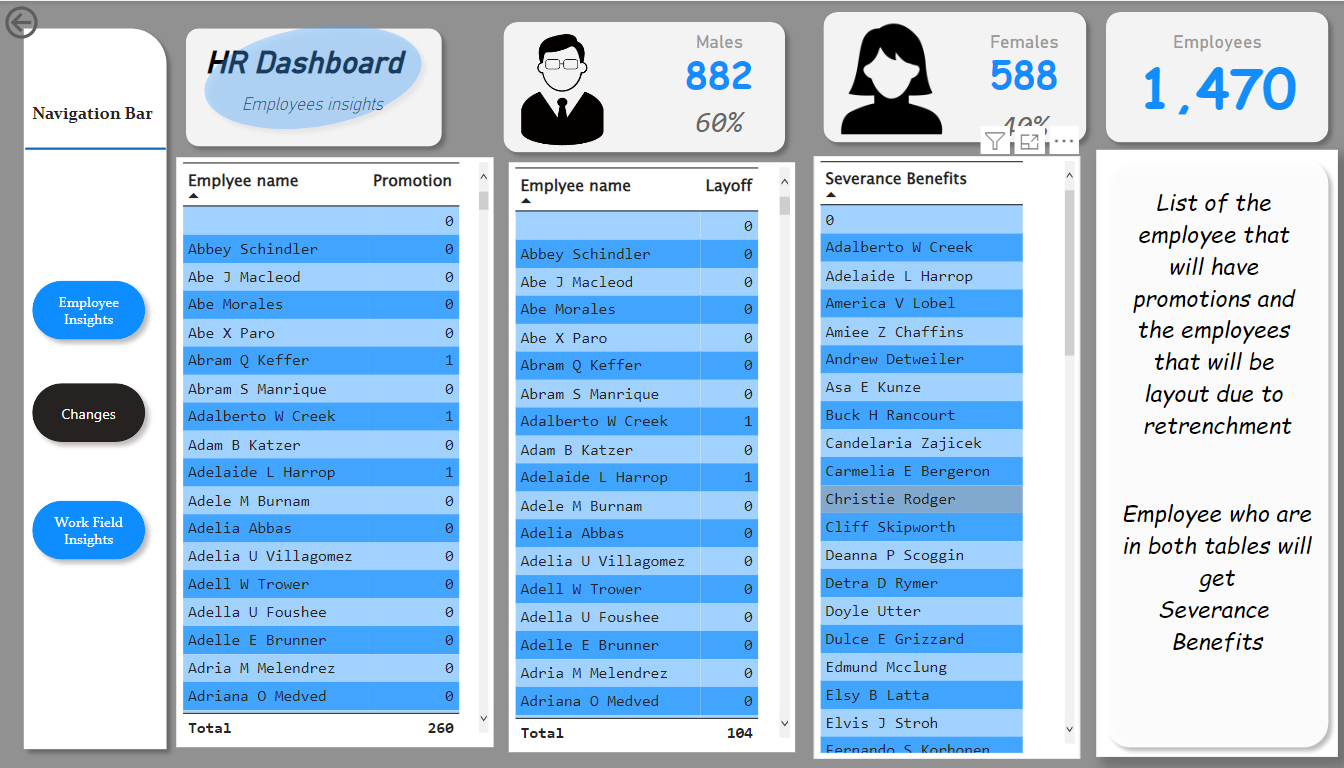

The page's visual inventory and layout, read from the dashboard file:
{"tool":"powerbi","page":{"name":"Changes","canvas":[1280,720],"ordinal":1},"visuals":[{"type":"shape","box":[12.5,16.2,151.2,688.8],"z":0},{"type":"shape","box":[164,16.3,255.8,127.9],"z":1000},{"type":"shape","box":[459.3,10.5,280.2,139.5],"z":2000},{"type":"shape","box":[757,1.2,262.8,139.5],"z":3000},{"type":"shape","box":[1019.8,1.2,224.4,139.5],"z":4000},{"type":"textbox","box":[186,34.9,219.8,54.7],"z":5000},{"type":"textbox","box":[219.8,80.2,161.6,39.5],"z":6000},{"type":"shape","box":[88.4,0,405.8,141.9],"z":7000},{"type":"card","title":"Employees ","fields":{"Values":["measures (2).total_emp"]},"box":[1043,27.9,179.1,82.6],"z":8000},{"type":"card","title":"Females","fields":{"Values":["measures (2).Female"]},"box":[901.2,27.9,103.5,61.6],"z":9000},{"type":"card","title":"Females","fields":{"Values":["measures (2).female_prec"]},"box":[901.2,90.7,103.5,51.2],"z":10000},{"type":"card","title":"Females","fields":{"Values":["measures (2).male_prec"]},"box":[617.4,87.2,102.3,51.2],"z":11000},{"type":"card","title":"Males","fields":{"Values":["measures (2).males"]},"box":[617.4,27.9,103.5,62.8],"z":12000},{"type":"image","box":[459.3,24.4,131.4,116.3],"z":13000},{"type":"image","box":[765.1,12.8,123.3,116.3],"z":14000},{"type":"actionButton","box":[0,0,100,40],"z":15000},{"type":"tableEx","fields":{"Values":["HR Analytics Data.Emplyee name","measures (2).Needs_Promotion"]},"box":[164,145.3,295.3,548.8],"z":16000},{"type":"tableEx","fields":{"Values":["HR Analytics Data.Emplyee name","measures (2).Layoff"]},"box":[473.3,150,266.3,548.8],"z":17000},{"type":"pageNavigator","box":[20.9,251.2,123.3,73.3],"z":18000},{"type":"pageNavigator","box":[20.9,346.5,123.3,73.3],"z":19000},{"type":"pageNavigator","box":[20.9,455.8,123.3,73.3],"z":20000},{"type":"textbox","box":[17.4,89.5,137.2,31.4],"z":21000},{"type":"shape","box":[23.3,132.6,131.4,9.3],"z":22000},{"type":"shape","box":[1019.8,138.4,224.4,565.1],"z":23000},{"type":"textbox","box":[1038.4,167.4,187.2,489.5],"z":24000},{"type":"tableEx","fields":{"Values":["Sheet1.Service Binfits"]},"box":[757,144.2,247.7,560.5],"z":25000}]}

Visuals, with their boxes in screenshot pixels (x1, y1, x2, y2), scaled from the page's 1280x720 canvas onto the 1344x768 screenshot:
shape: {"left": 13, "top": 17, "right": 172, "bottom": 752}
shape: {"left": 172, "top": 17, "right": 441, "bottom": 154}
shape: {"left": 482, "top": 11, "right": 776, "bottom": 160}
shape: {"left": 795, "top": 1, "right": 1071, "bottom": 150}
shape: {"left": 1071, "top": 1, "right": 1306, "bottom": 150}
textbox: {"left": 195, "top": 37, "right": 426, "bottom": 96}
textbox: {"left": 231, "top": 86, "right": 400, "bottom": 128}
shape: {"left": 93, "top": 0, "right": 519, "bottom": 151}
"Employees " card: {"left": 1095, "top": 30, "right": 1283, "bottom": 118}
"Females" card: {"left": 946, "top": 30, "right": 1055, "bottom": 95}
"Females" card: {"left": 946, "top": 97, "right": 1055, "bottom": 151}
"Females" card: {"left": 648, "top": 93, "right": 756, "bottom": 148}
"Males" card: {"left": 648, "top": 30, "right": 757, "bottom": 97}
image: {"left": 482, "top": 26, "right": 620, "bottom": 150}
image: {"left": 803, "top": 14, "right": 933, "bottom": 138}
actionButton: {"left": 0, "top": 0, "right": 105, "bottom": 43}
tableEx - HR Analytics Data.Emplyee name x measures (2).Needs_Promotion: {"left": 172, "top": 155, "right": 482, "bottom": 740}
tableEx - HR Analytics Data.Emplyee name x measures (2).Layoff: {"left": 497, "top": 160, "right": 777, "bottom": 745}
pageNavigator: {"left": 22, "top": 268, "right": 151, "bottom": 346}
pageNavigator: {"left": 22, "top": 370, "right": 151, "bottom": 448}
pageNavigator: {"left": 22, "top": 486, "right": 151, "bottom": 564}
textbox: {"left": 18, "top": 95, "right": 162, "bottom": 129}
shape: {"left": 24, "top": 141, "right": 162, "bottom": 151}
shape: {"left": 1071, "top": 148, "right": 1306, "bottom": 750}
textbox: {"left": 1090, "top": 179, "right": 1287, "bottom": 701}
tableEx - Sheet1.Service Binfits: {"left": 795, "top": 154, "right": 1055, "bottom": 752}
